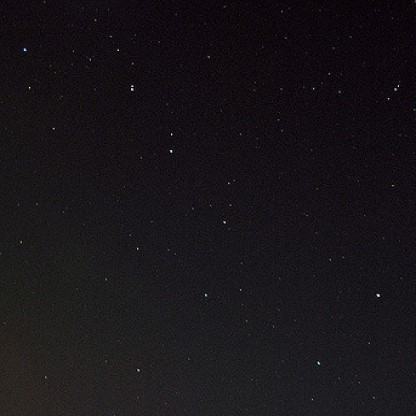Ursa Major: (153, 139, 182, 166), (304, 351, 333, 375), (12, 40, 37, 67), (117, 77, 142, 102), (194, 282, 217, 306), (367, 281, 388, 307), (211, 213, 232, 236)
